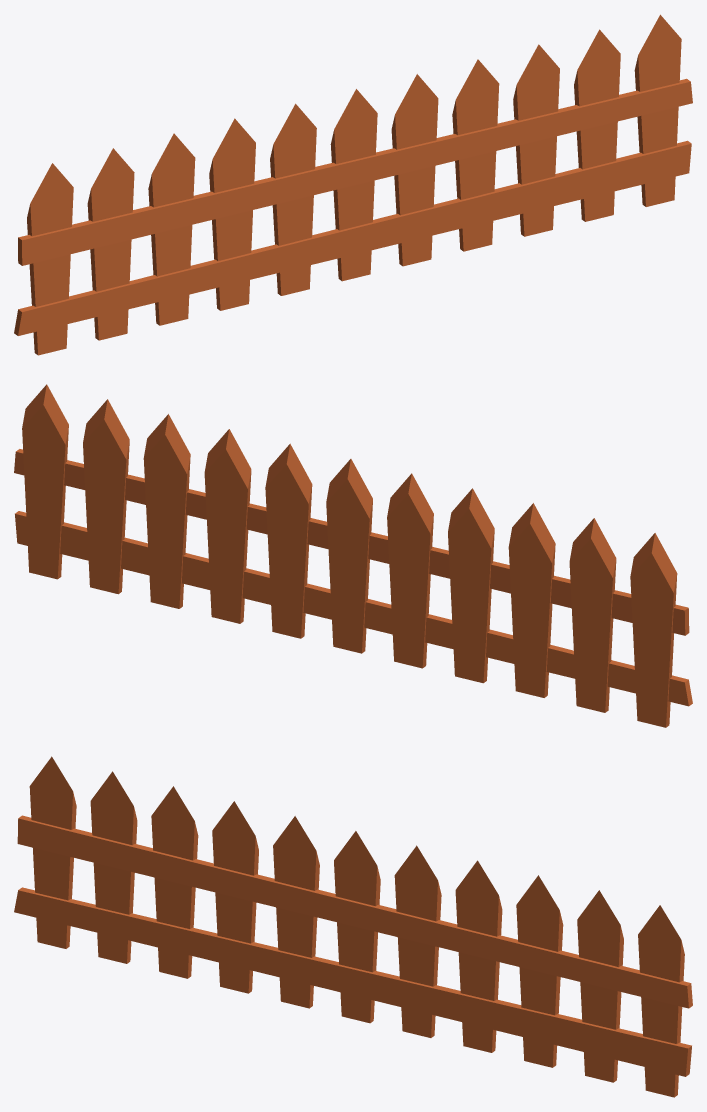
The model's file is fence.fbx.
The picture shows the model from 3 angles, top to bottom: view 1: azimuth 30°, elevation 25°; view 2: azimuth 150°, elevation 25°; view 3: azimuth 330°, elevation 25°; orthographic projection.
Visible parts, largest first — view 1: Fence; view 2: Fence; view 3: Fence.
Boxes of the visible parts, box(x1,y1,x2,y2) form: Fence: box(14, 14, 692, 355); Fence: box(14, 384, 692, 727); Fence: box(14, 756, 692, 1097).
Bounding box in the file's own units: 750 × 201 × 10.43.
